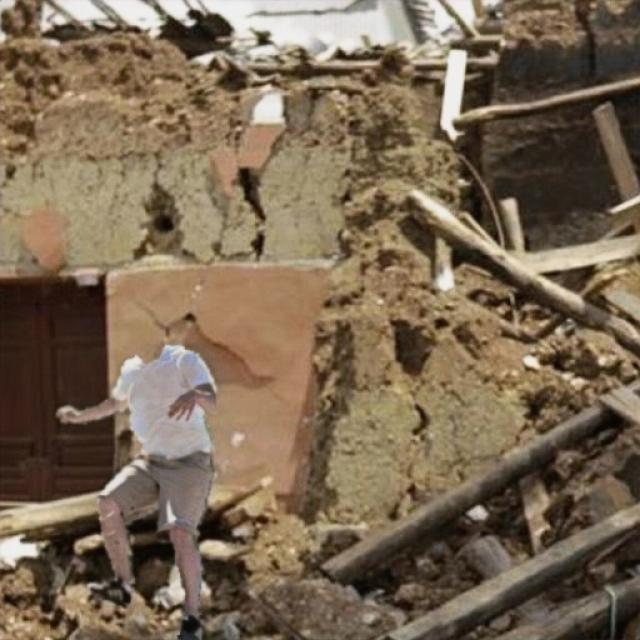Person in Rubble: (56, 344, 215, 638)
